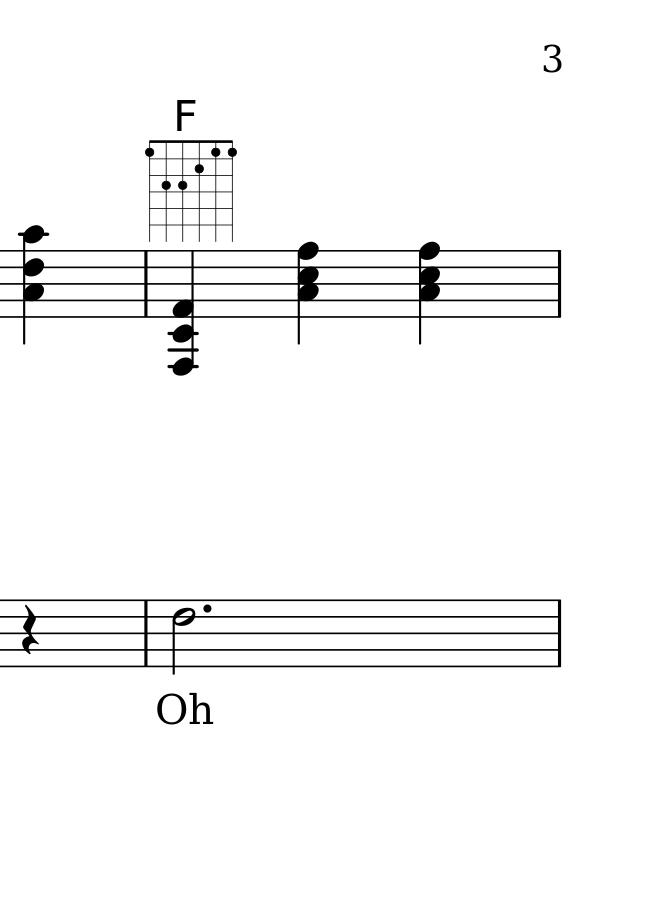2_6: (169, 599, 198, 674)
4_th: (168, 251, 200, 377), (18, 225, 50, 344), (416, 240, 442, 343), (295, 241, 320, 346)
Fretboard: (142, 137, 241, 244)
Rests4: (20, 604, 41, 655)
Single_barline: (135, 249, 158, 318), (134, 600, 157, 669), (544, 249, 567, 317), (543, 600, 566, 668)
dot: (197, 598, 216, 620), (197, 602, 215, 616)
